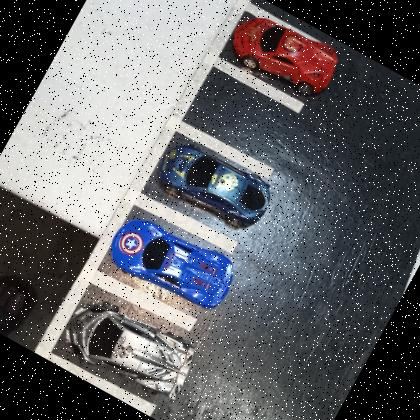Car: (54, 286, 206, 413), (99, 202, 245, 323), (148, 130, 282, 241), (218, 0, 349, 109)
